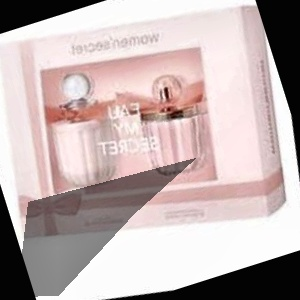women_secret: (113, 0, 215, 36)
